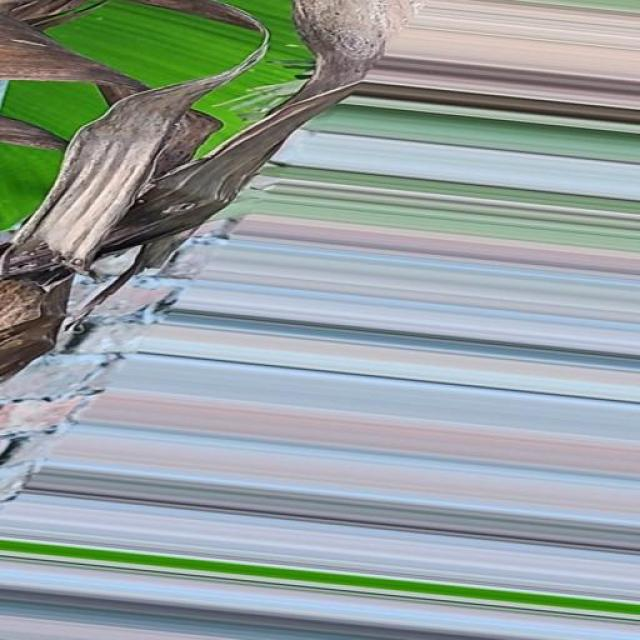Bract_mosaic_virus: (0, 3, 640, 395)
